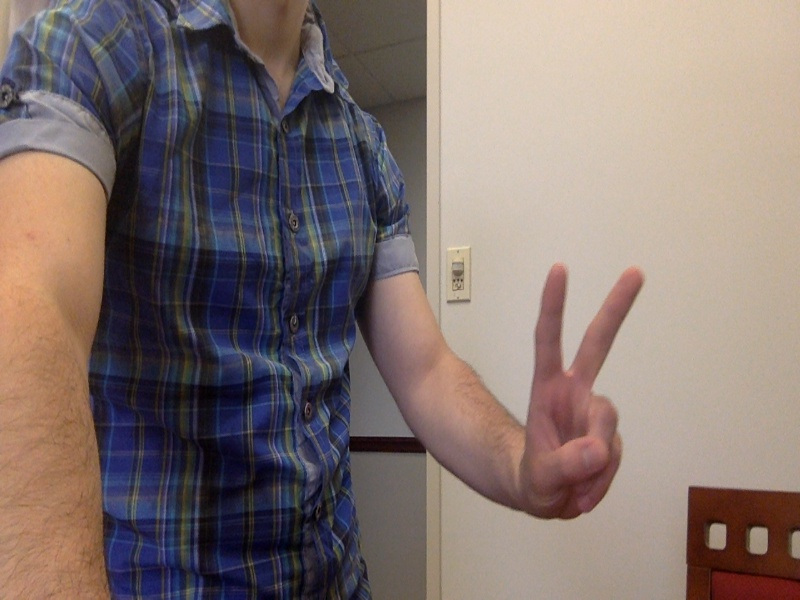2-hand: (524, 265, 644, 520)
